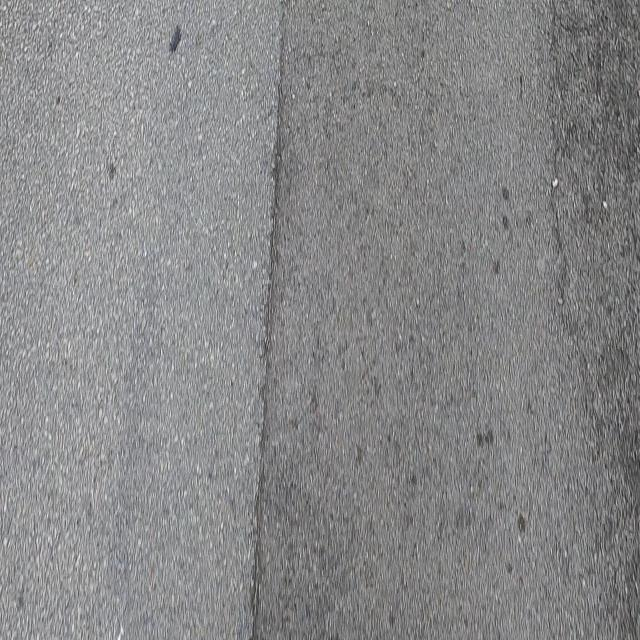Retak-Memanjang: (247, 32, 288, 640)
